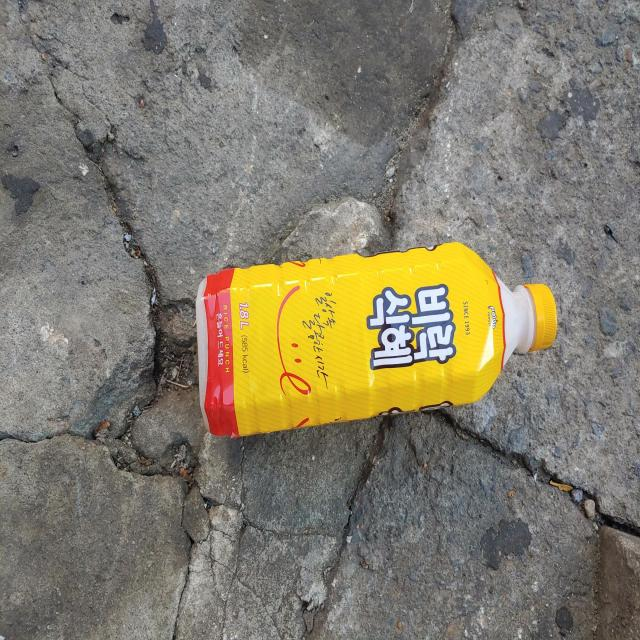plastic: (196, 242, 558, 438)
